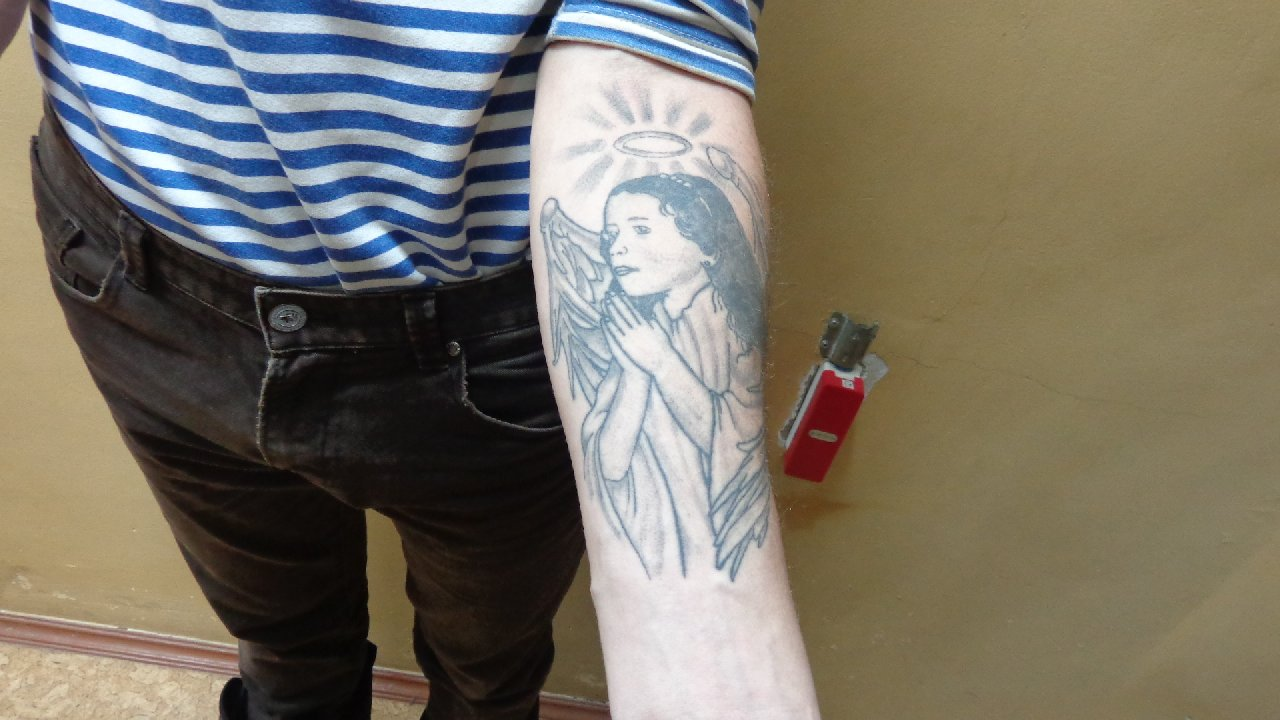tatu1_angel: (524, 82, 772, 596)
